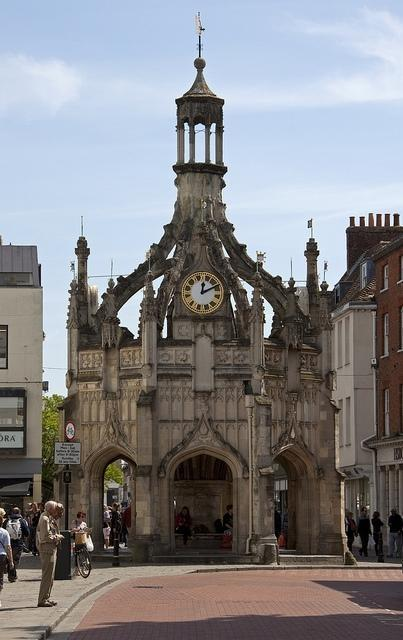bicycle: (70, 532, 92, 578)
